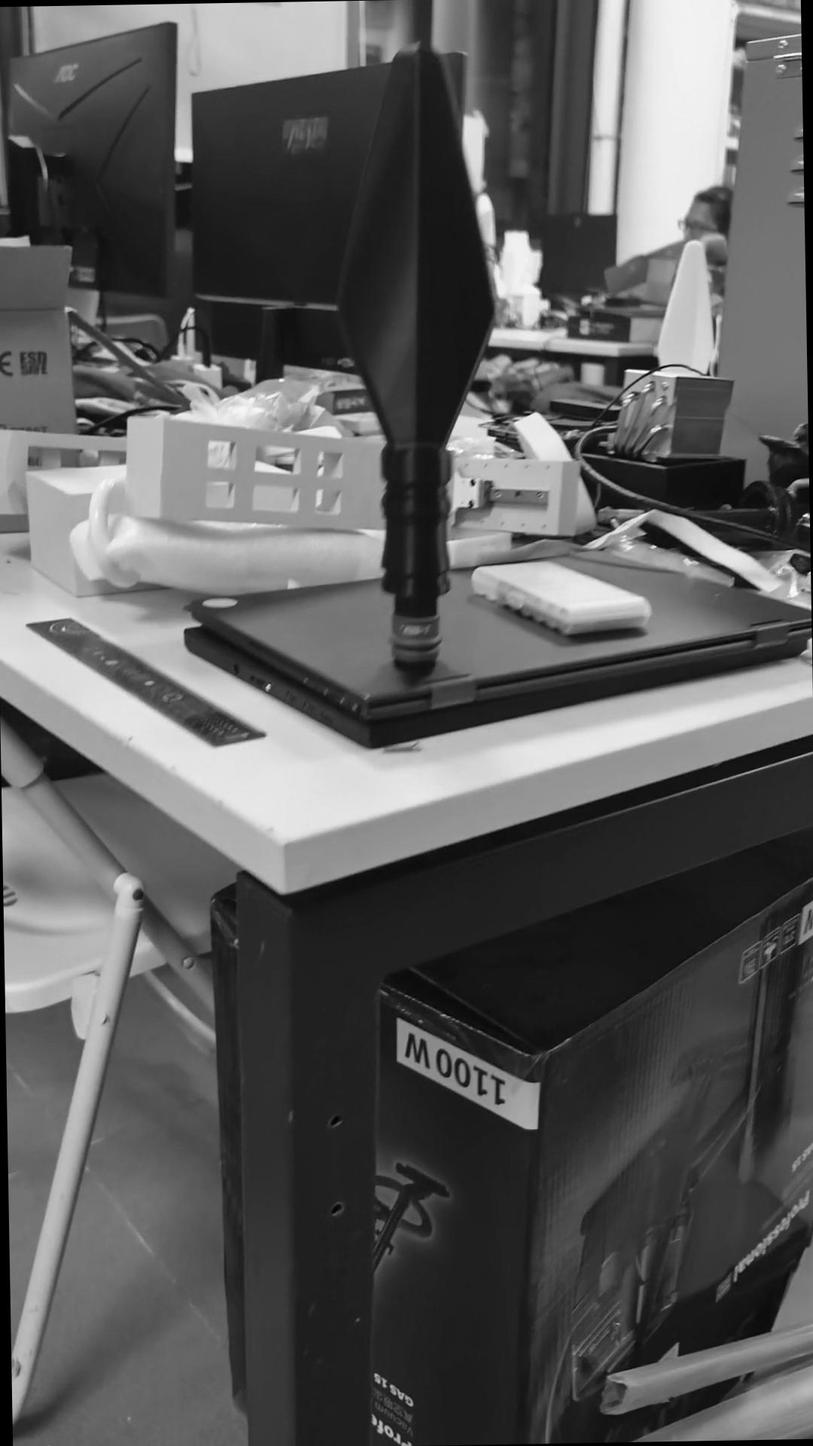base: (382, 605, 450, 678)
